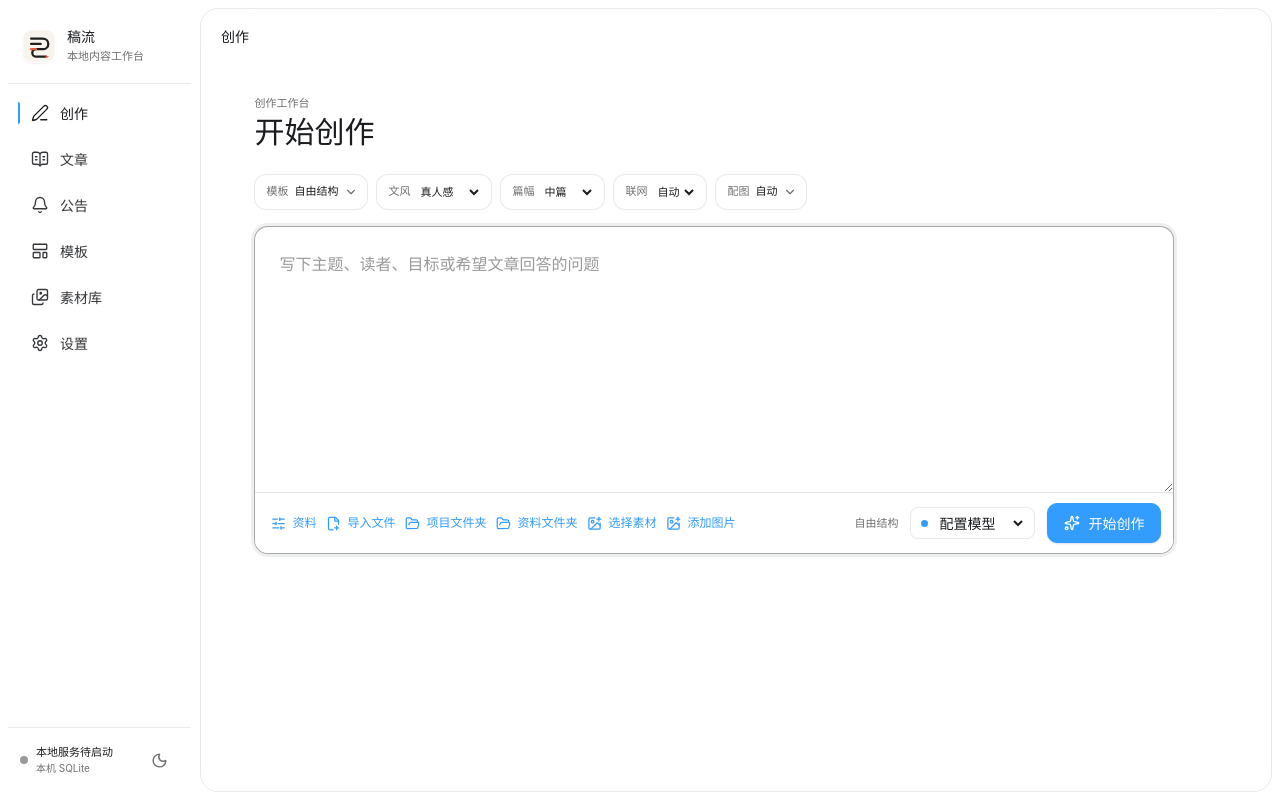
desktop product flow › migrates the template library to product promotion plus imported references
This screenshot has width=1280, height=800.
Click the button "模板". click: x=100, y=251
box: [18,230,181,272]
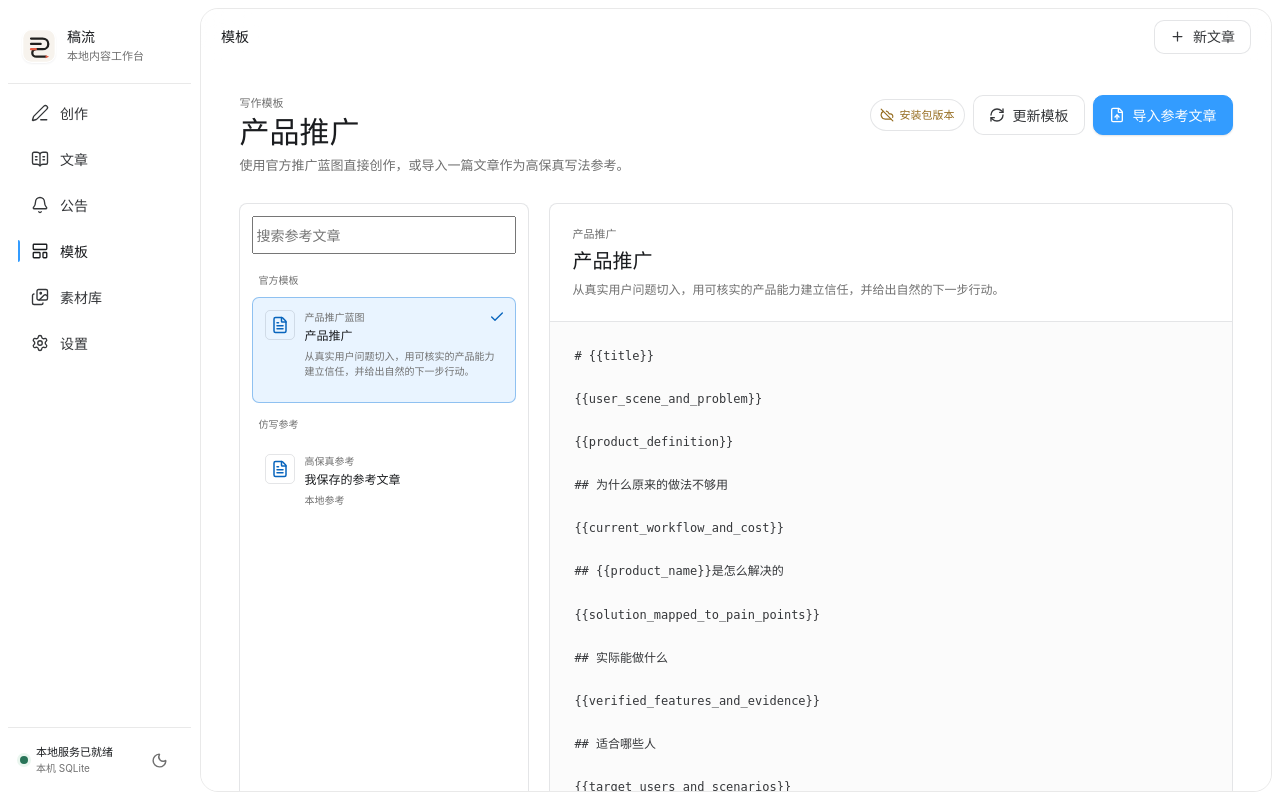
Expected: the heading "产品推广" below "写作模板" is shown, [239,114,359,150]
Expected: the text "我保存的参考文章" is shown, [304,472,400,487]
